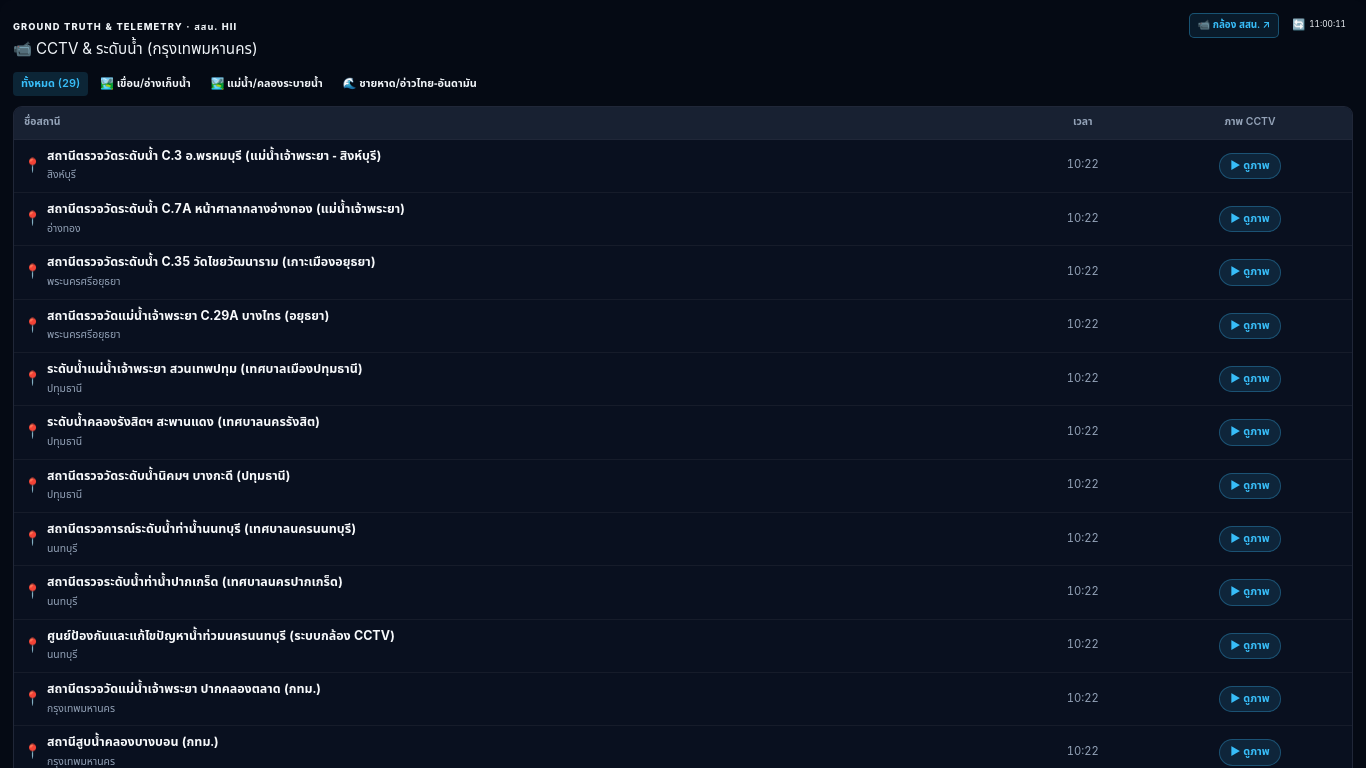
CctvPanel component › opens CCTV inspection modal on button click
Step 1. Click the button with aria-label "ดูภาพมุมกล้องและโทรมาตรระดับน้ำ" → (1250, 166), box [1219,153,1281,179]
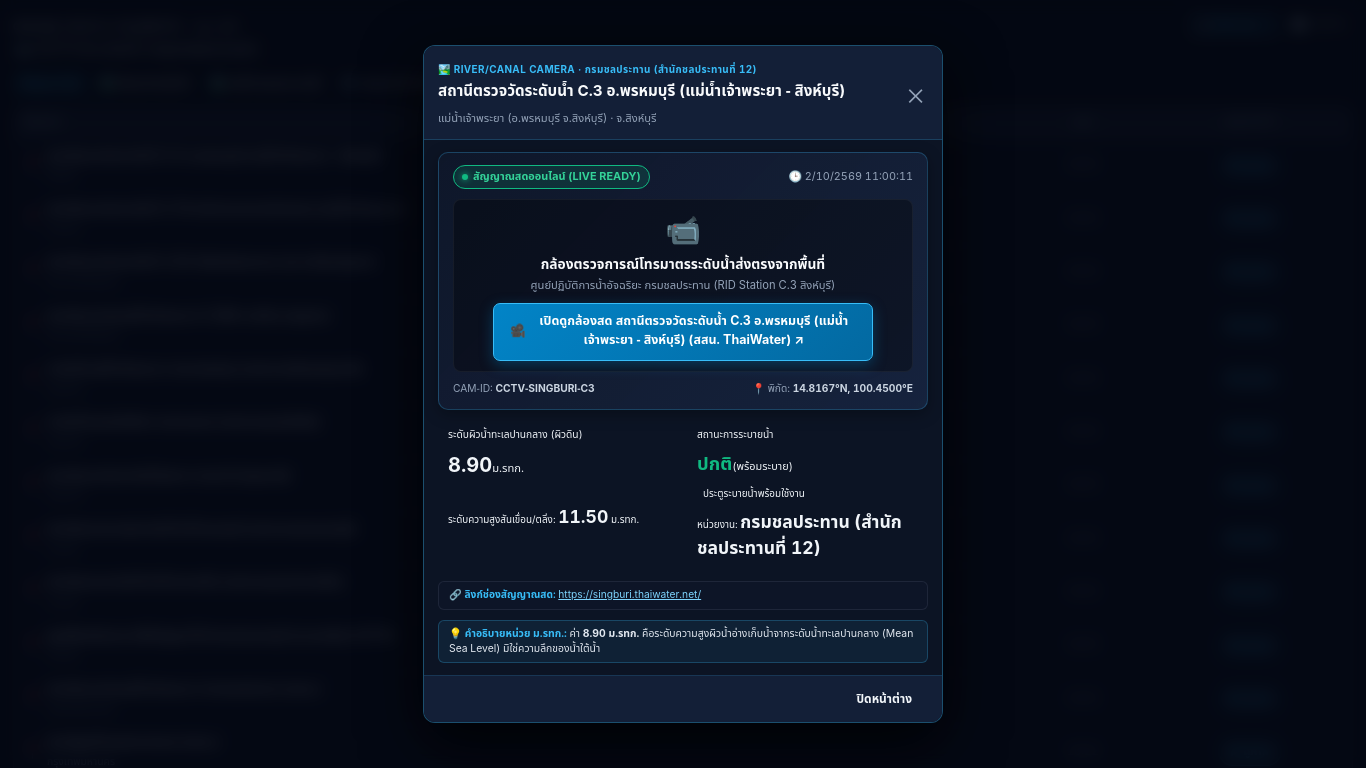
Now the dialog is shown
Now the text "🏞️ RIVER/CANAL CAMERA · กรมชลประทาน (สำนักชลประทานที่ 12)" is shown, box [438,62,757,77]
Step 2. Click the button named "Close CCTV Modal" → (914, 92), box [900,78,928,106]
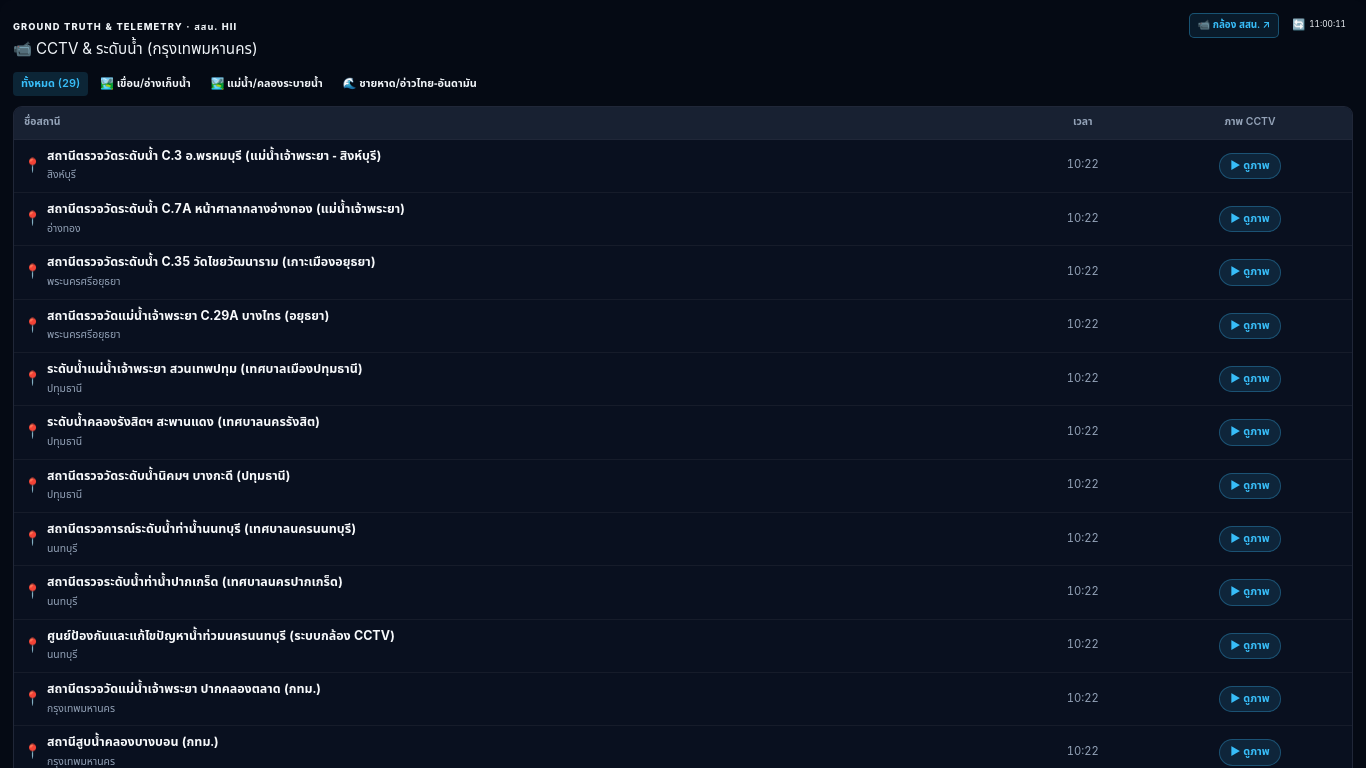
Now the dialog is gone
